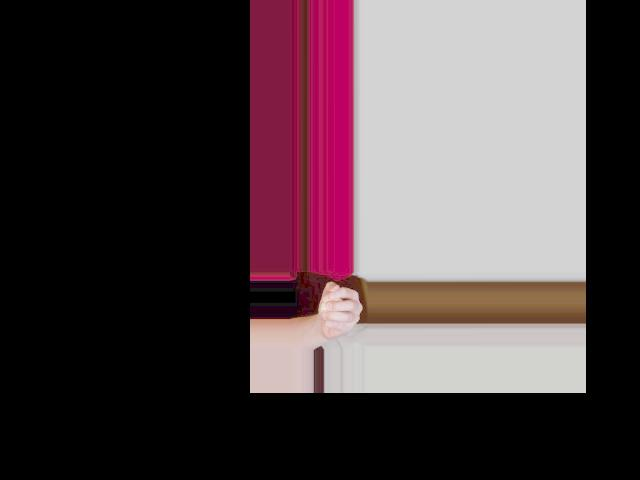egg: (320, 295, 343, 319)
